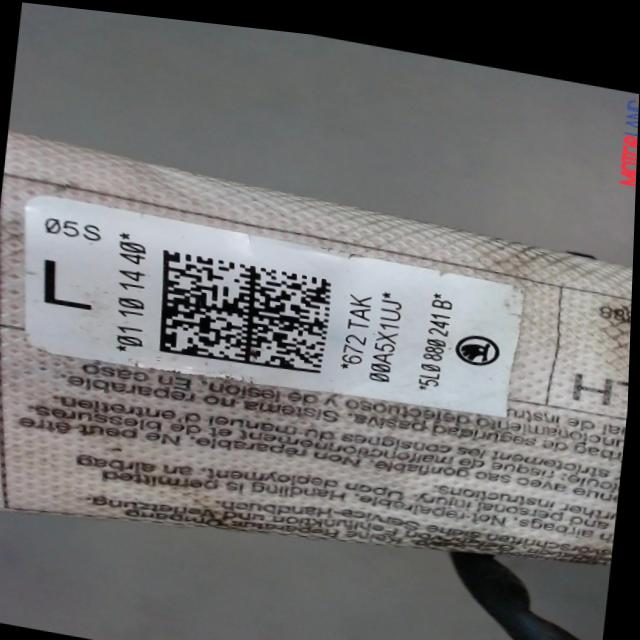datamatrix: (155, 244, 335, 373)
